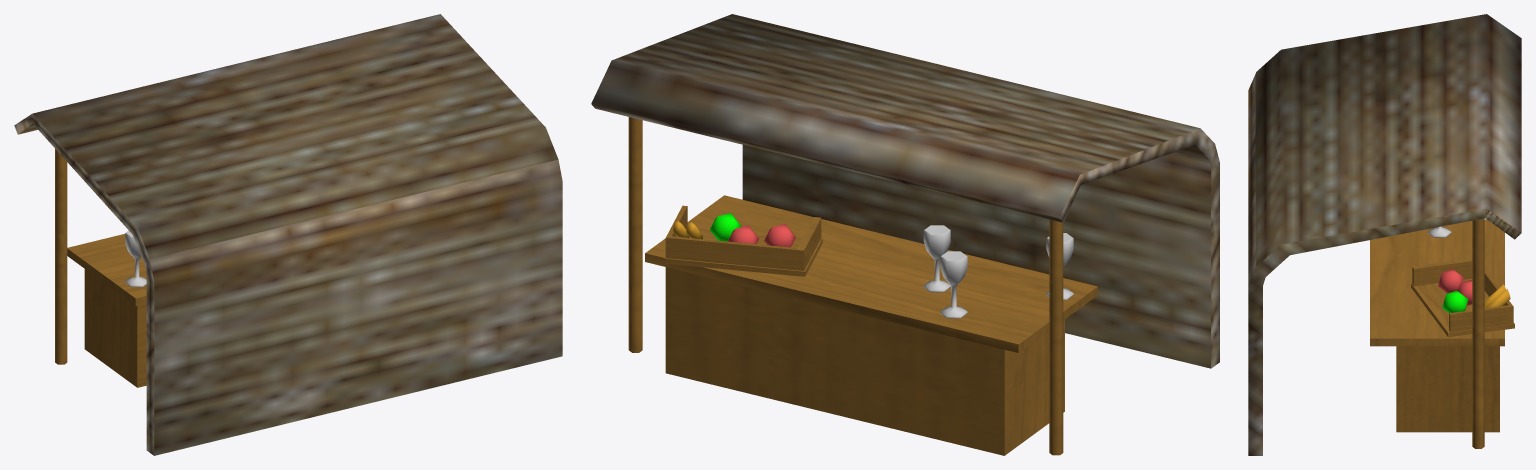
File: stall_2.obj
3 views of the same model, side by side, from view 1: azimuth 30°, elevation 25°; view 2: azimuth 150°, elevation 25°; view 3: azimuth 270°, elevation 25° (orthographic). The views are drawn at different scales.
Parts seen in each view (by area): view 1: Cube; view 2: Cube; view 3: Cube.
Part boxes in pixels (x1,y1,x2,y2): Cube: [14, 14, 562, 455]; Cube: [591, 14, 1219, 455]; Cube: [1248, 14, 1521, 455].
Size of the model in its own units: 8.92 by 5.32 by 5.29.
4 materials, 3 textured.
